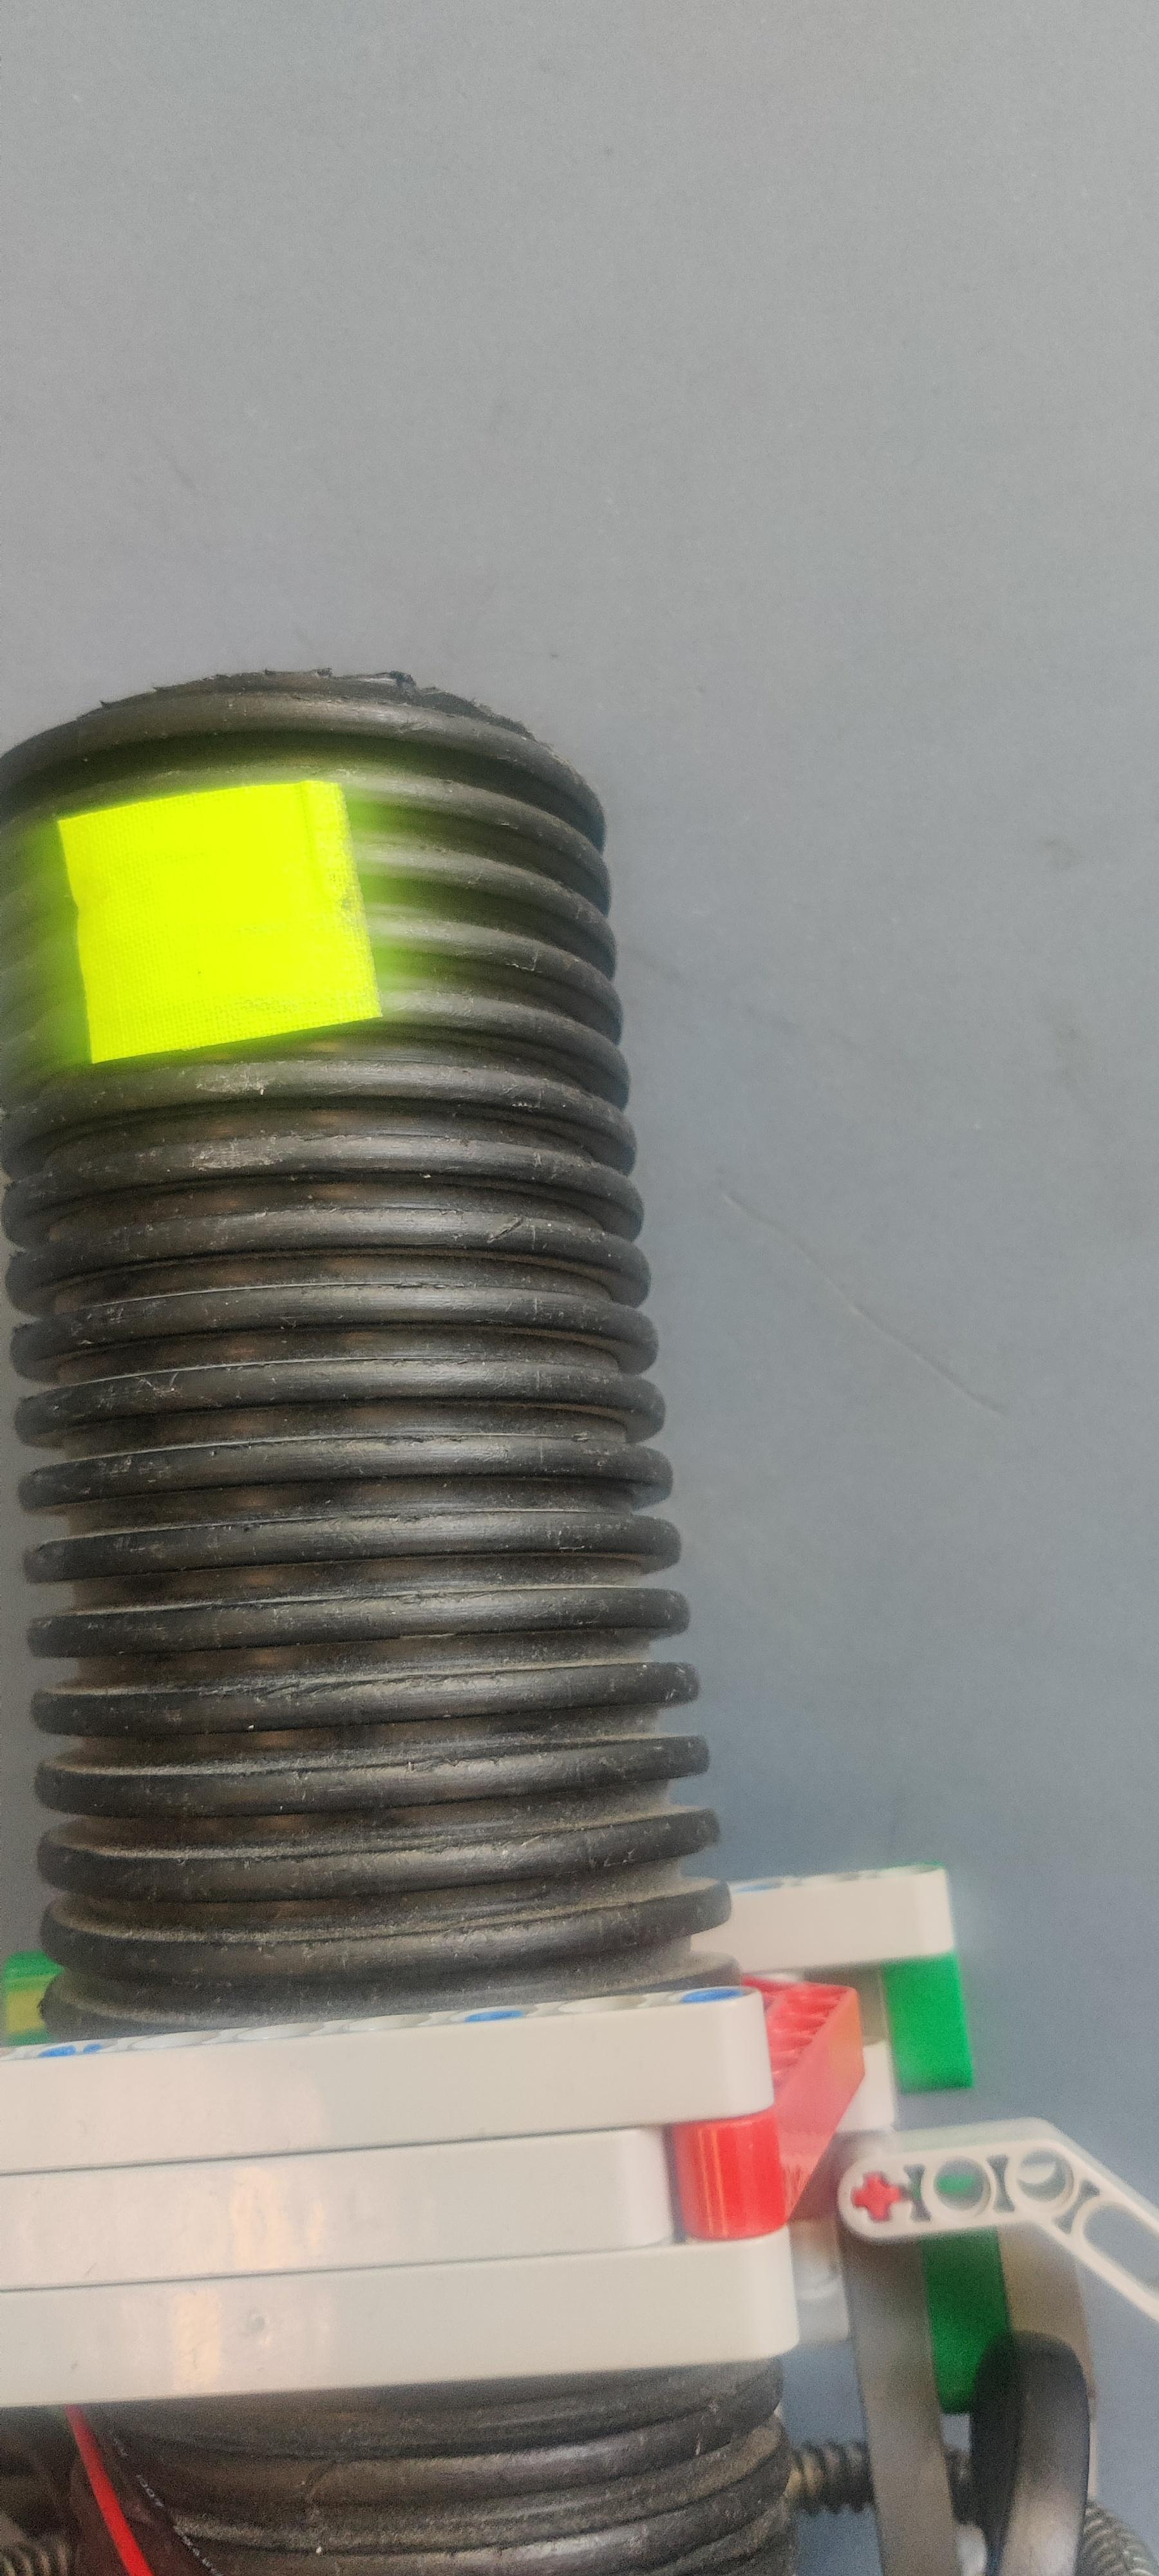robot-front: (5, 697, 685, 1968)
